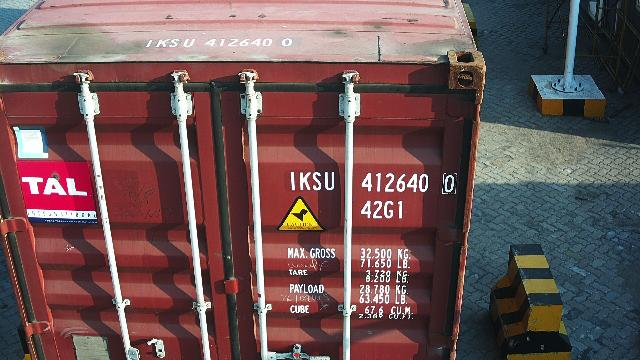0: (444, 173, 456, 194), (419, 173, 429, 192)
1: (376, 172, 382, 192)
2: (385, 173, 395, 193)
4: (362, 172, 372, 192), (407, 173, 417, 192)
6: (396, 172, 406, 192)
I: (290, 170, 296, 192)
K: (299, 171, 311, 191)
S: (312, 171, 322, 191)
U: (324, 171, 336, 191)
